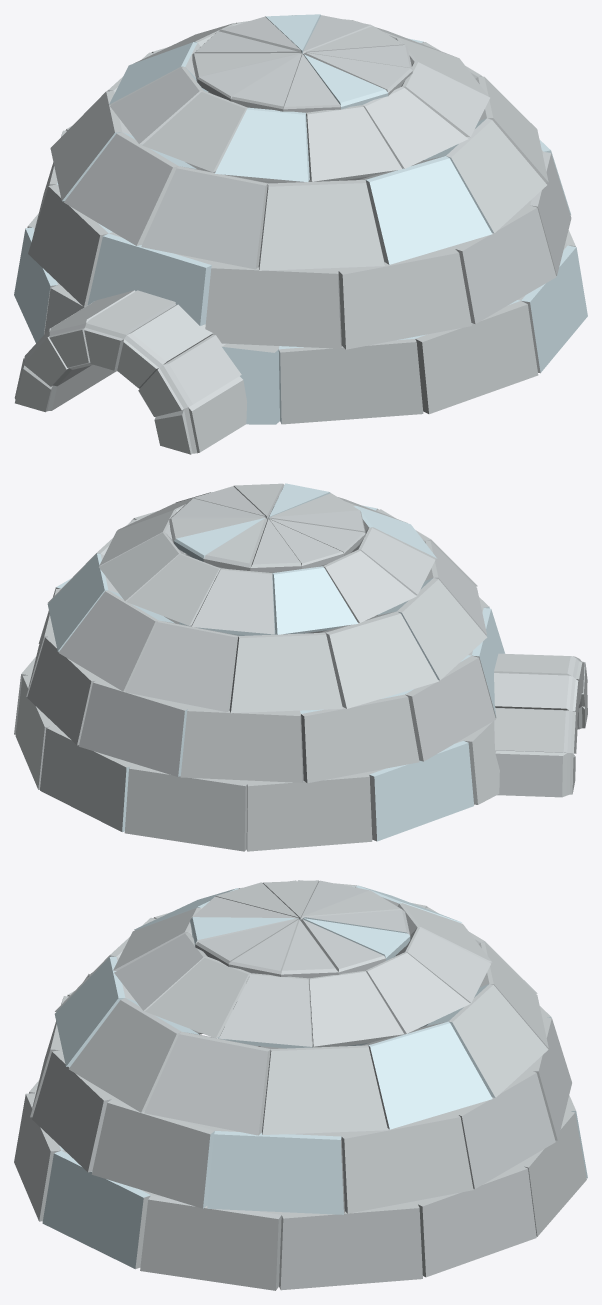
The model's file is igloo.glb.
The picture shows the model from 3 angles, top to bottom: view 1: azimuth 30°, elevation 25°; view 2: azimuth 150°, elevation 25°; view 3: azimuth 270°, elevation 25°; orthographic projection. The views are drawn at different scales.
Visible parts, largest first — view 1: igloo_row_00_brick_07, igloo_row_03_brick_06.001, igloo_row_05_brick_04, igloo_row_08_brick_04, igloo_row_05_brick_03, igloo_row_08_brick_05, igloo_row_08_brick_02, igloo_row_03_brick_04.001, igloo_row_08_brick_06, igloo_row_05_brick_02, igloo_row_05_brick_05, igloo_row_00_brick_08 (+29 smaller); view 2: igloo_row_05_brick_09, igloo_row_03_brick_14.001, igloo_row_03_brick_16.001, igloo_row_08_brick_09, igloo_row_05_brick_08, igloo_row_08_brick_10, igloo_row_08_brick_08, igloo_row_00_brick_08, igloo_row_05_brick_11, igloo_row_03_brick_12.001, igloo_row_03_brick_18.001, igloo_row_05_brick_07 (+29 smaller); view 3: igloo_row_05_brick_00, igloo_row_03_brick_01.001, igloo_row_03_brick_21.001, igloo_row_05_brick_13, igloo_row_08_brick_13, igloo_row_08_brick_00, igloo_row_05_brick_01, igloo_row_08_brick_12, igloo_row_03_brick_19.001, igloo_row_03_brick_02.001, igloo_row_08_brick_01, igloo_row_05_brick_12 (+26 smaller).
Boxes of the visible parts, x1,y1,x2,y2 form: igloo_row_00_brick_07: [84, 290, 215, 454]; igloo_row_03_brick_06.001: [279, 339, 423, 424]; igloo_row_05_brick_04: [205, 265, 341, 348]; igloo_row_08_brick_04: [256, 179, 384, 270]; igloo_row_05_brick_03: [338, 249, 471, 349]; igloo_row_08_brick_05: [141, 166, 267, 269]; igloo_row_08_brick_02: [366, 156, 493, 264]; igloo_row_03_brick_04.001: [415, 301, 538, 414]; igloo_row_08_brick_06: [64, 132, 178, 245]; igloo_row_05_brick_02: [455, 205, 556, 324]; igloo_row_05_brick_05: [87, 233, 211, 325]; igloo_row_00_brick_08: [15, 290, 135, 412]; igloo_row_05_brick_09: [180, 709, 307, 782]; igloo_row_03_brick_14.001: [247, 774, 372, 851]; igloo_row_03_brick_16.001: [124, 766, 246, 851]; igloo_row_08_brick_09: [231, 632, 342, 713]; igloo_row_05_brick_08: [301, 694, 419, 783]; igloo_row_08_brick_10: [125, 620, 239, 712]; igloo_row_08_brick_08: [325, 611, 438, 708]; igloo_row_00_brick_08: [494, 671, 579, 795]; igloo_row_05_brick_11: [77, 681, 187, 776]; igloo_row_03_brick_12.001: [369, 740, 473, 841]; igloo_row_03_brick_18.001: [38, 726, 130, 831]; igloo_row_05_brick_07: [405, 656, 495, 761]; igloo_row_05_brick_00: [203, 1131, 343, 1214]; igloo_row_03_brick_01.001: [135, 1195, 281, 1290]; igloo_row_03_brick_21.001: [280, 1204, 422, 1290]; igloo_row_05_brick_13: [341, 1114, 473, 1213]; igloo_row_08_brick_13: [262, 1045, 389, 1134]; igloo_row_08_brick_00: [144, 1032, 271, 1135]; igloo_row_05_brick_01: [88, 1099, 214, 1208]; igloo_row_08_brick_12: [368, 1021, 495, 1129]; igloo_row_03_brick_19.001: [418, 1166, 536, 1277]; igloo_row_03_brick_02.001: [42, 1150, 150, 1268]; igloo_row_08_brick_01: [69, 998, 181, 1112]; igloo_row_05_brick_12: [458, 1071, 555, 1188].
Size of what is drawn, in the model's own units: 1 by 0.4346 by 0.8871.
